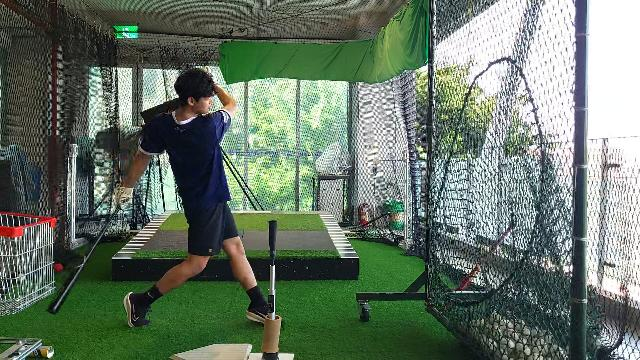bat: (48, 204, 122, 312)
